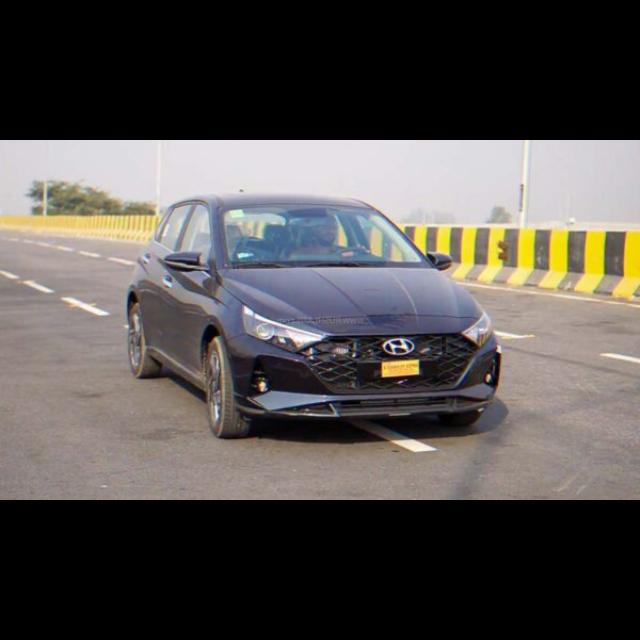vehicles: (128, 194, 508, 446)
